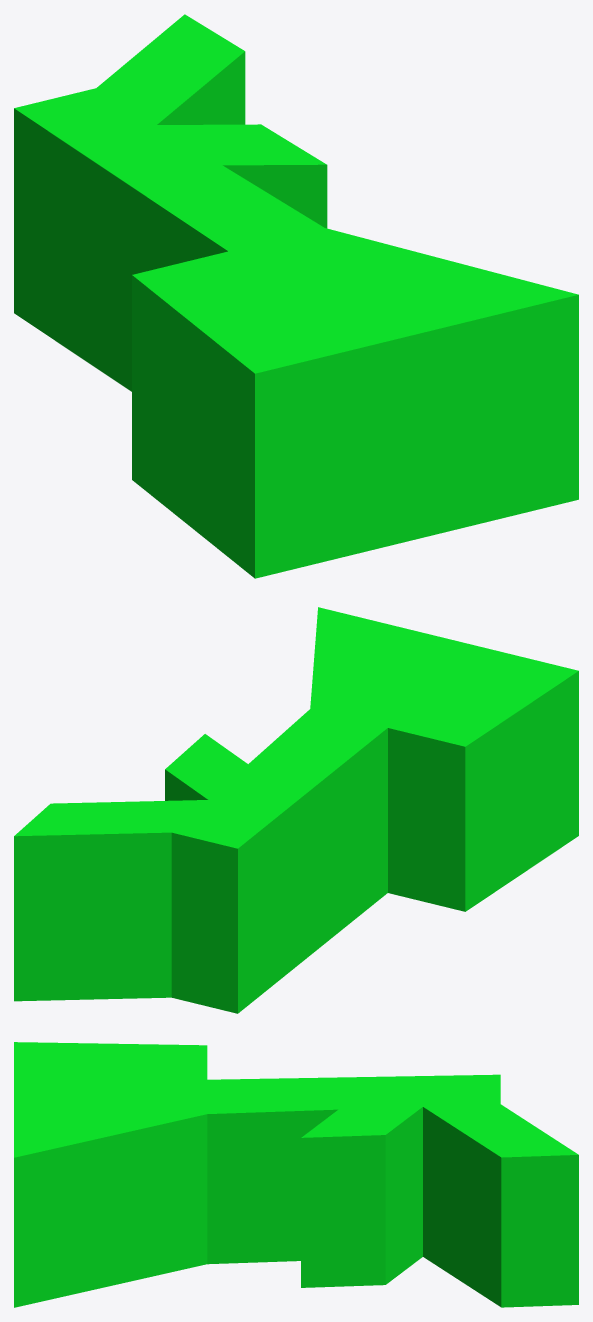
The model's file is ciervo2.glb.
The picture shows the model from 3 angles, top to bottom: view 1: azimuth 30°, elevation 25°; view 2: azimuth 150°, elevation 25°; view 3: azimuth 270°, elevation 25°; orthographic projection. The views are drawn at different scales.
Parts seen in each view (by area): view 1: ciervo2; view 2: ciervo2; view 3: ciervo2.
Boxes of the visible parts, bbox=[...] form: ciervo2: bbox=[14, 14, 578, 578]; ciervo2: bbox=[14, 607, 578, 1013]; ciervo2: bbox=[14, 1042, 578, 1307].
Bounding box in the file's own units: 0.4733 × 0.2862 × 0.9765.
